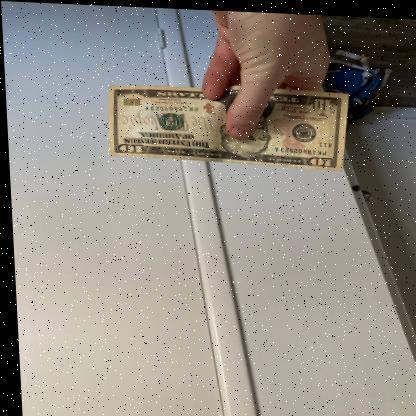dollar_front: (102, 80, 351, 168)
